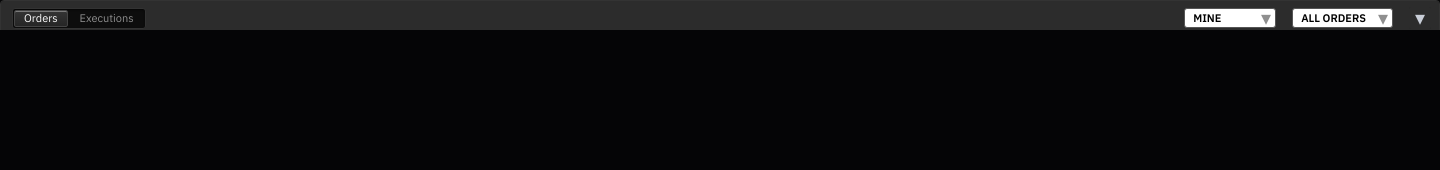
Test: §11.5 dropdown lists escape their card › renders the blotter filter list outside a clipped, short card with every option
Click the button with test id "blotter-filter-trigger" at (1343, 18), box [1292, 8, 1393, 28]
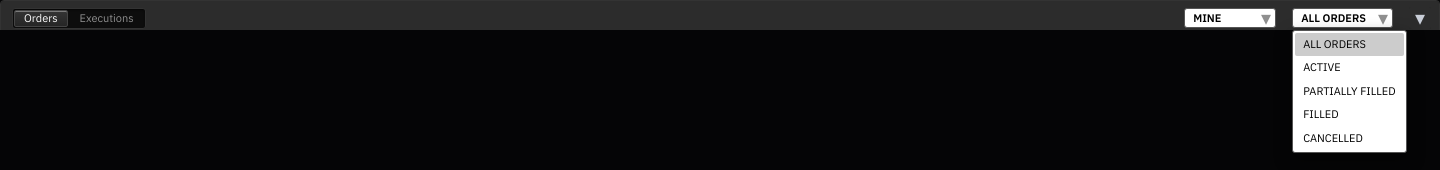
Now the number of options is 5, box [1295, 33, 1404, 56]; [1303, 60, 1341, 74]; [1303, 84, 1396, 98]; [1303, 107, 1339, 121]; [1303, 131, 1363, 145]
